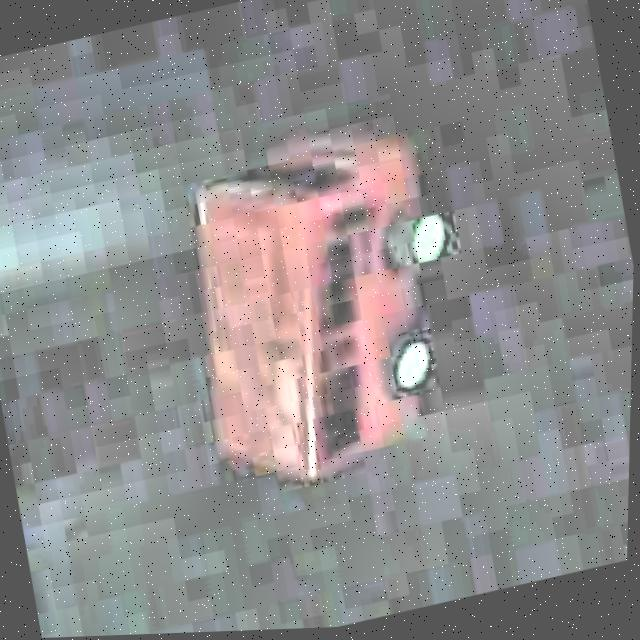bus: (151, 94, 510, 520)
